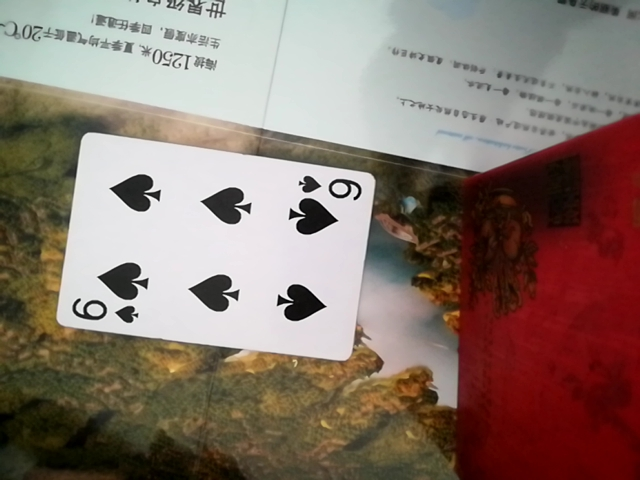ht 6: (52, 135, 376, 361)
